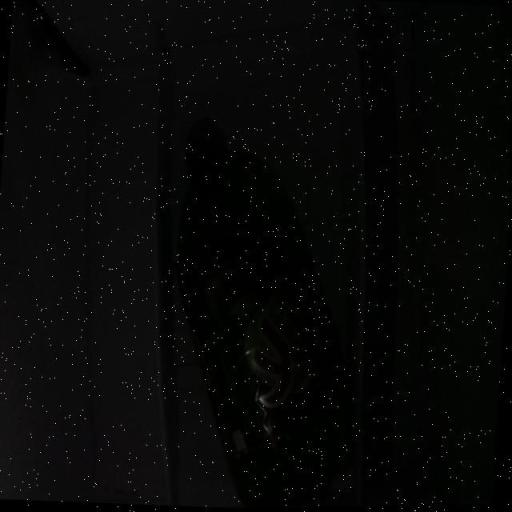plastic: (138, 96, 390, 510)
